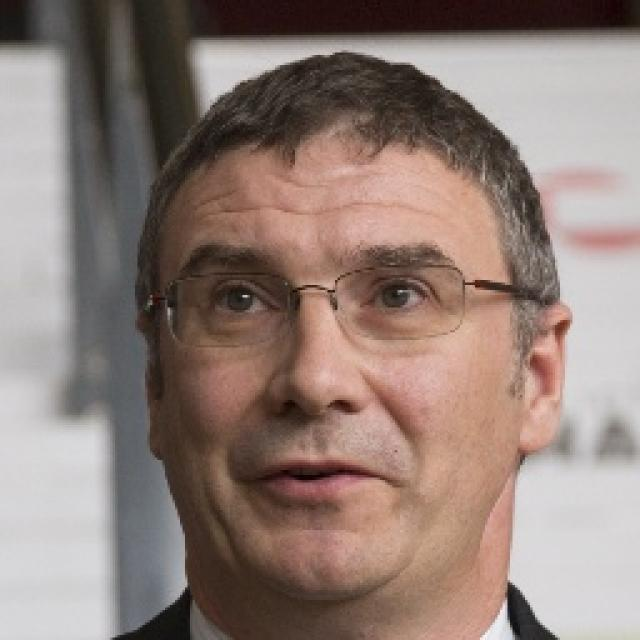earlobe: (519, 302, 572, 451), (135, 311, 166, 458)
